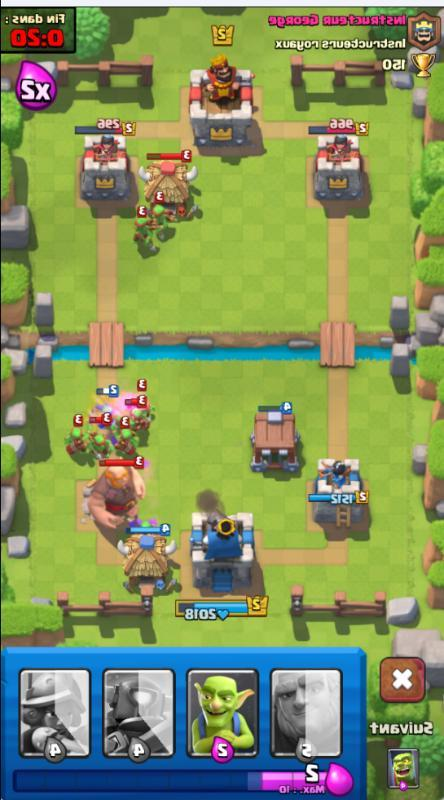enemy_giant: (81, 457, 148, 528)
enemy_goblin_hut: (137, 149, 202, 221)
enemy_spear_goblins: (61, 417, 94, 456), (128, 216, 162, 252), (123, 394, 156, 427), (113, 423, 144, 455), (146, 201, 178, 231), (127, 379, 157, 411), (84, 423, 113, 456)
player_goblin_cage: (246, 400, 306, 479)
player_goblin_hut: (116, 526, 182, 604)
